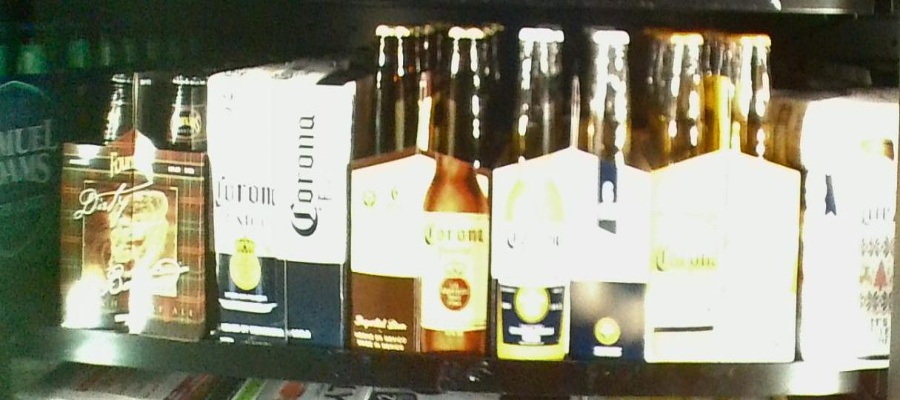bottle: (496, 20, 648, 364), (648, 31, 798, 357), (353, 23, 490, 360), (53, 66, 210, 341), (210, 69, 351, 349), (802, 94, 899, 352)
